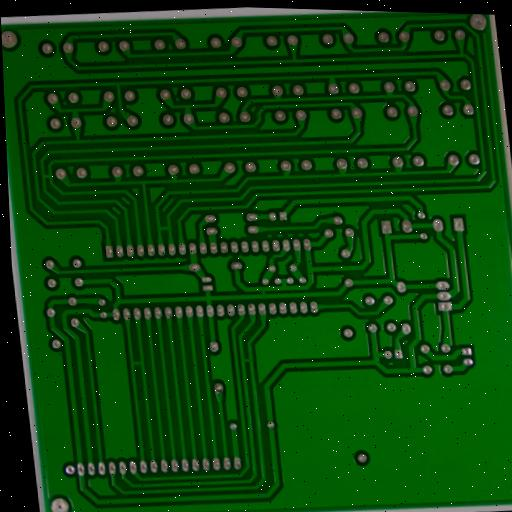short_circuit: (128, 354, 147, 371), (155, 223, 175, 234), (257, 286, 272, 300), (239, 355, 256, 367), (41, 170, 55, 183)
